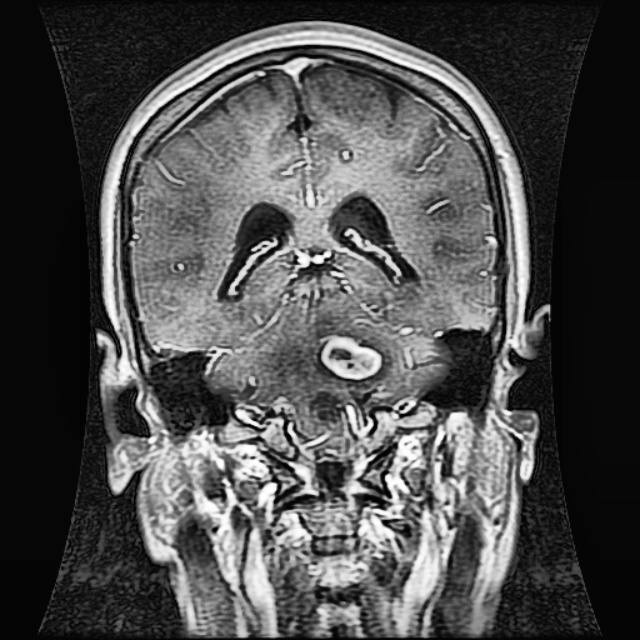Meningioma: (318, 332, 393, 385)
